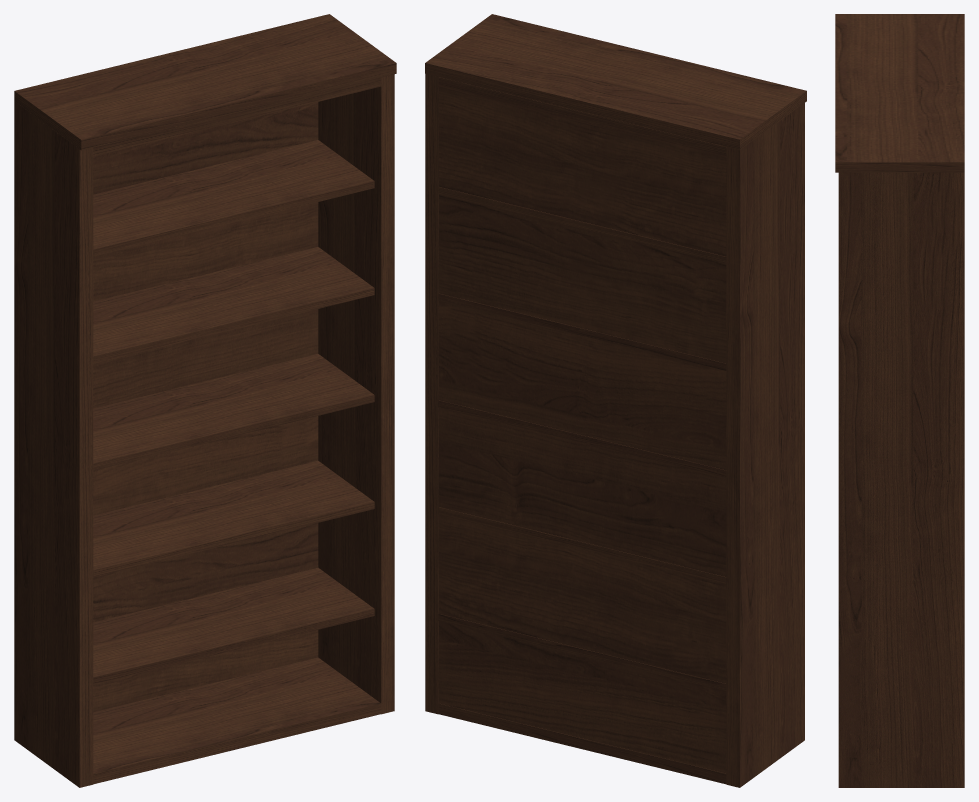
The model's file is Bookcase.FBX.
3 views of the same model, side by side, from view 1: azimuth 30°, elevation 25°; view 2: azimuth 150°, elevation 25°; view 3: azimuth 270°, elevation 25° (orthographic). The views are drawn at different scales.
Parts seen in each view (by area): view 1: bookcase; view 2: bookcase; view 3: bookcase.
Boxes of the visible parts, x1,y1,x2,y2 form: bookcase: (14, 14, 396, 787); bookcase: (425, 14, 806, 787); bookcase: (835, 14, 964, 787).
Size of the model in its own units: 92.99 by 183 by 34.26.
Materials: 1 (1 with a texture image).
